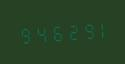four: (32, 22, 46, 45)
nine: (17, 23, 31, 46), (78, 18, 92, 41)
one: (93, 17, 107, 40)
six: (48, 21, 62, 44)
two: (63, 19, 77, 42)
